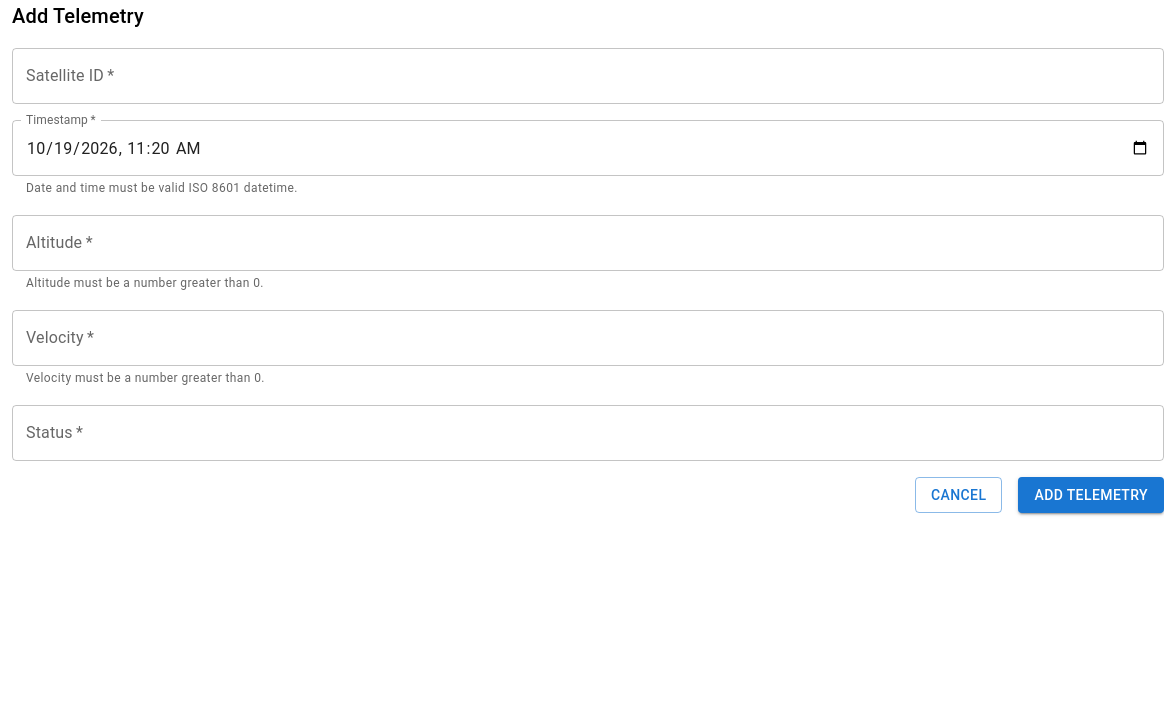
Test: TelemetryForm › shows a validation error when velocity is negative
The width and height of the screenshot is (1176, 720).
Type "SAT-001" into the field with id "telemetry-satellite-id" at (588,76), box [12, 48, 1164, 104]
Replace the text in the field with id "telemetry-timestamp" with "2026-10-17T12:00" at (588,148), box [12, 120, 1164, 176]
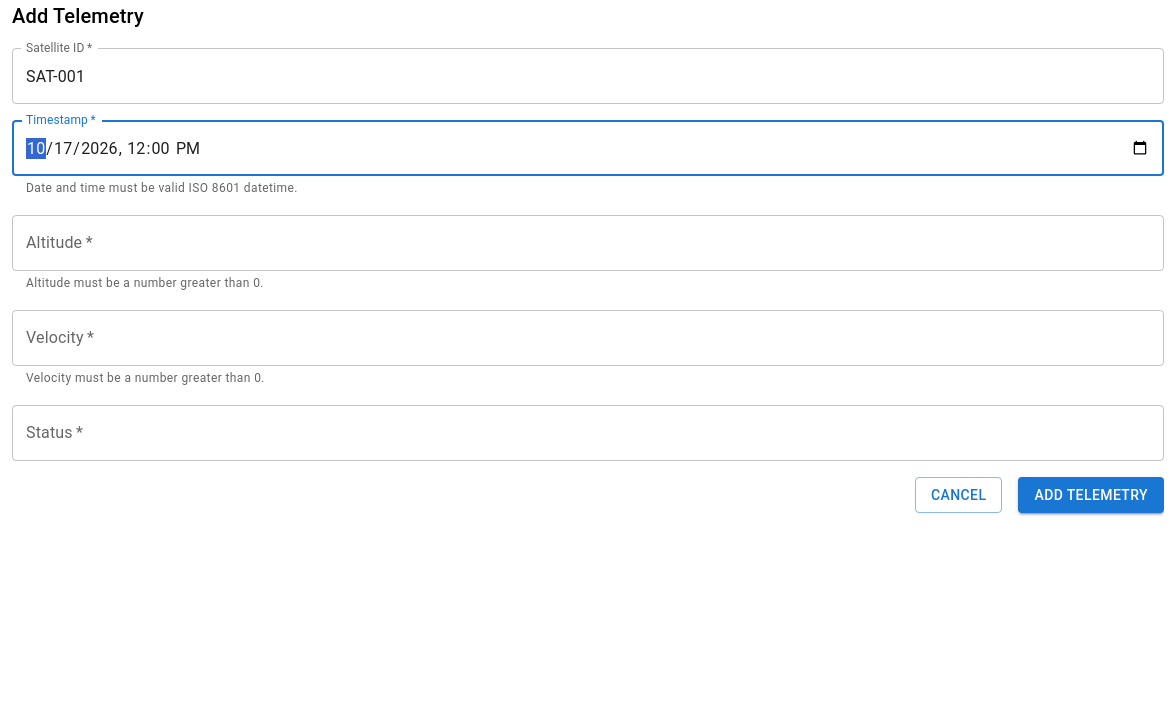
Type "400" into the number field with id "telemetry-altitude" at (588,243), box [12, 215, 1164, 271]
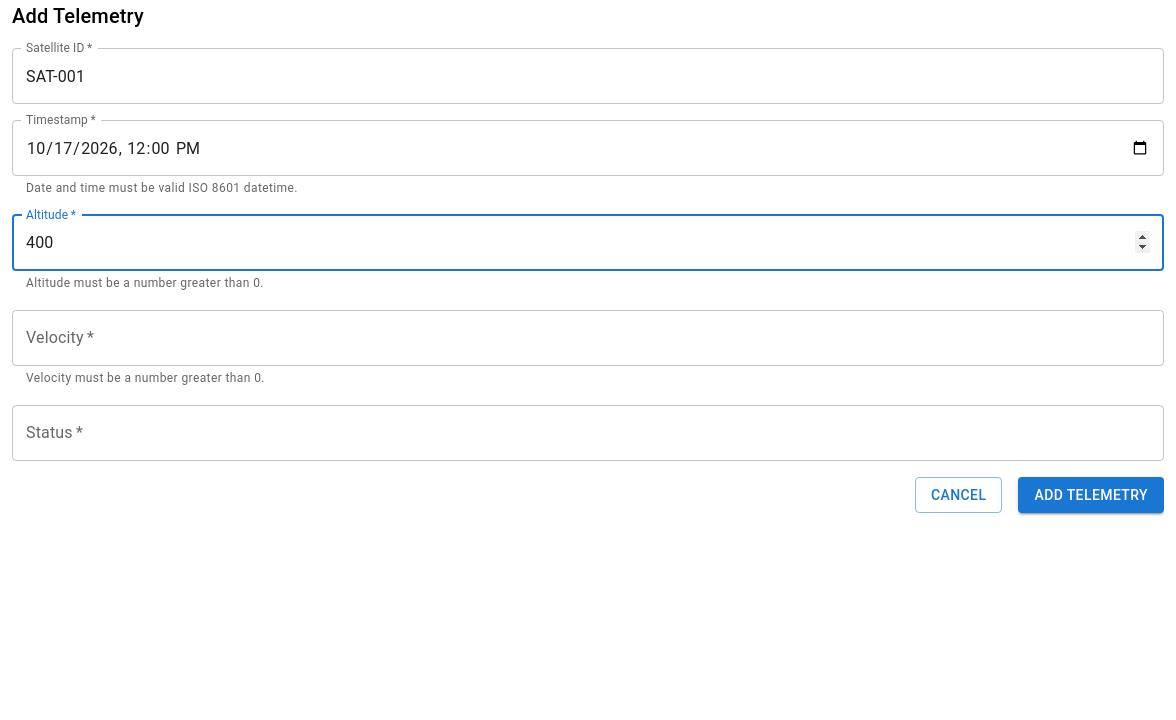
Type "7.8" into the number field with id "telemetry-velocity" at (588,338), box [12, 310, 1164, 366]
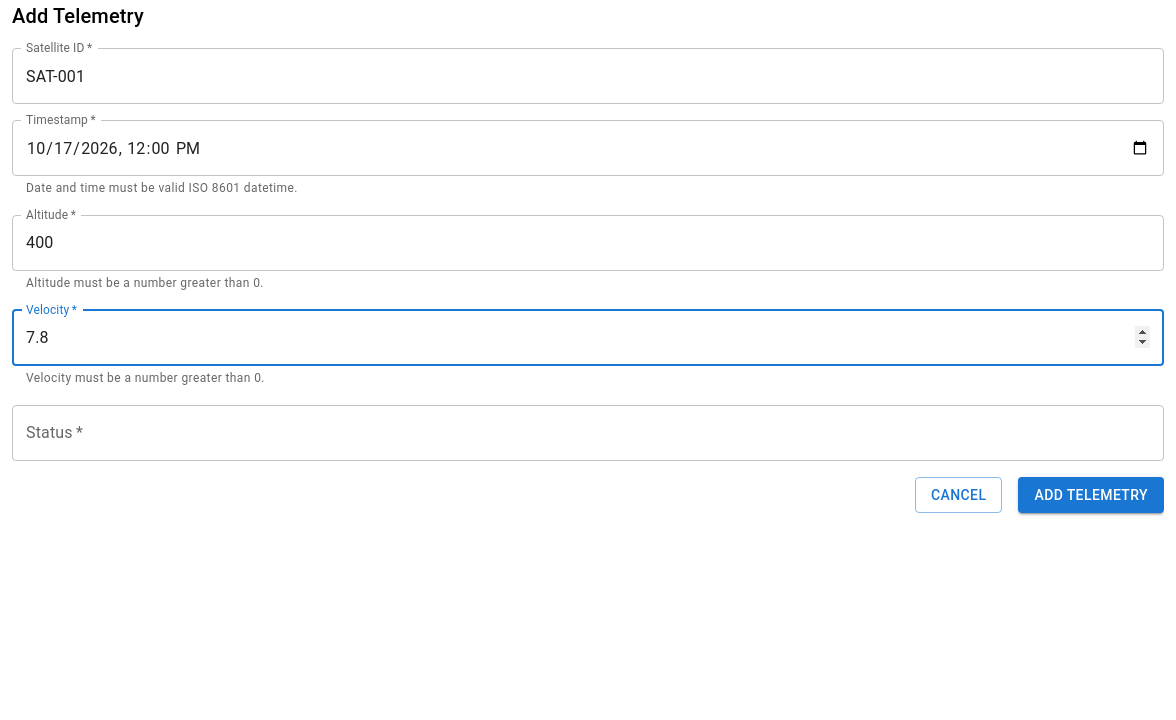
Type "nominal" into the field with id "telemetry-status" at (588,433), box [12, 405, 1164, 461]
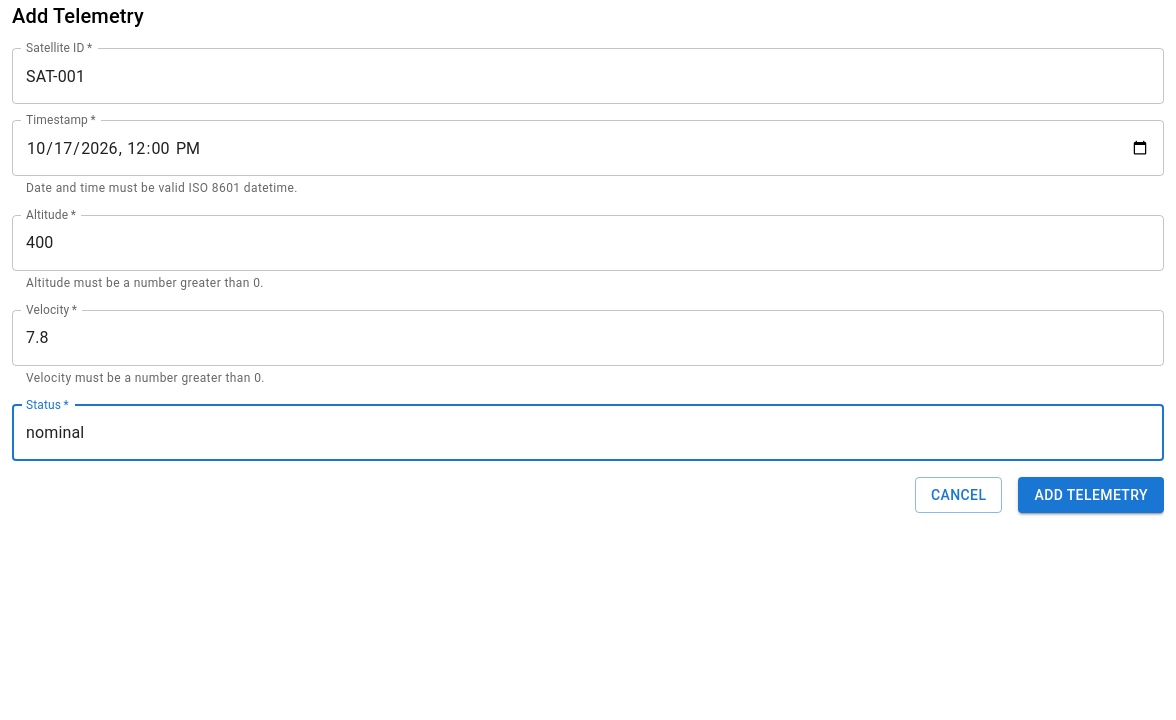
Replace the text in the number field with id "telemetry-velocity" with "-1" at (588,338), box [12, 310, 1164, 366]
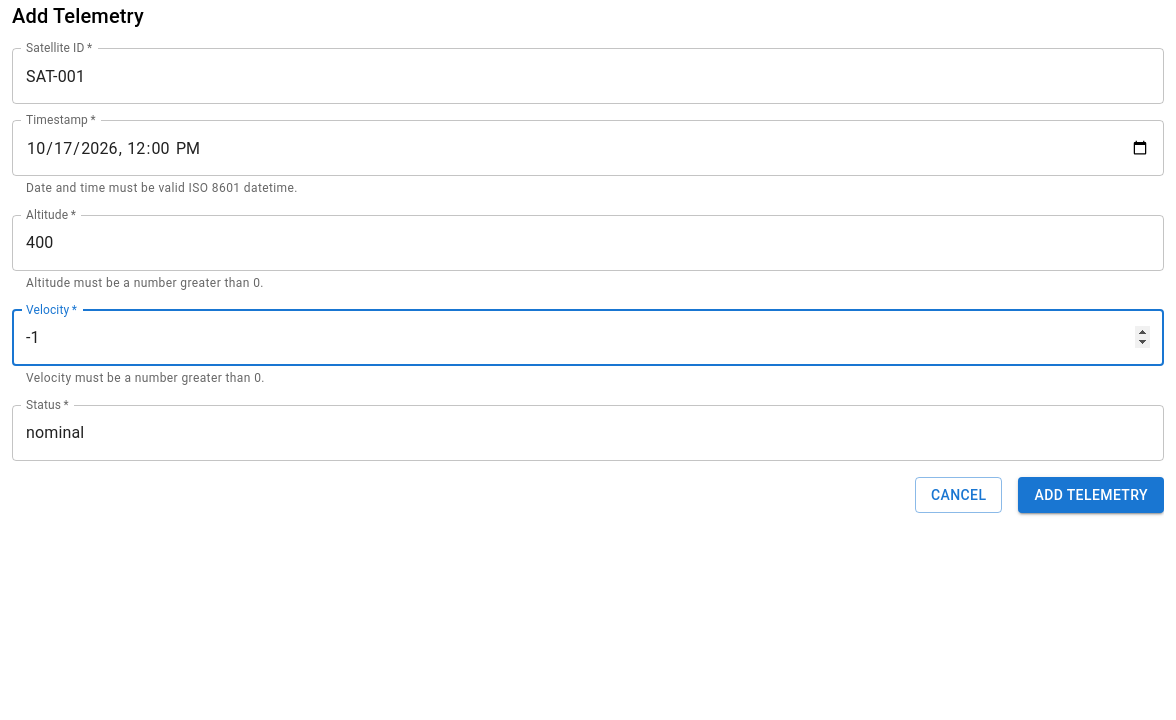
Click the button "Add Telemetry" at (1091,495), box [1018, 477, 1164, 513]
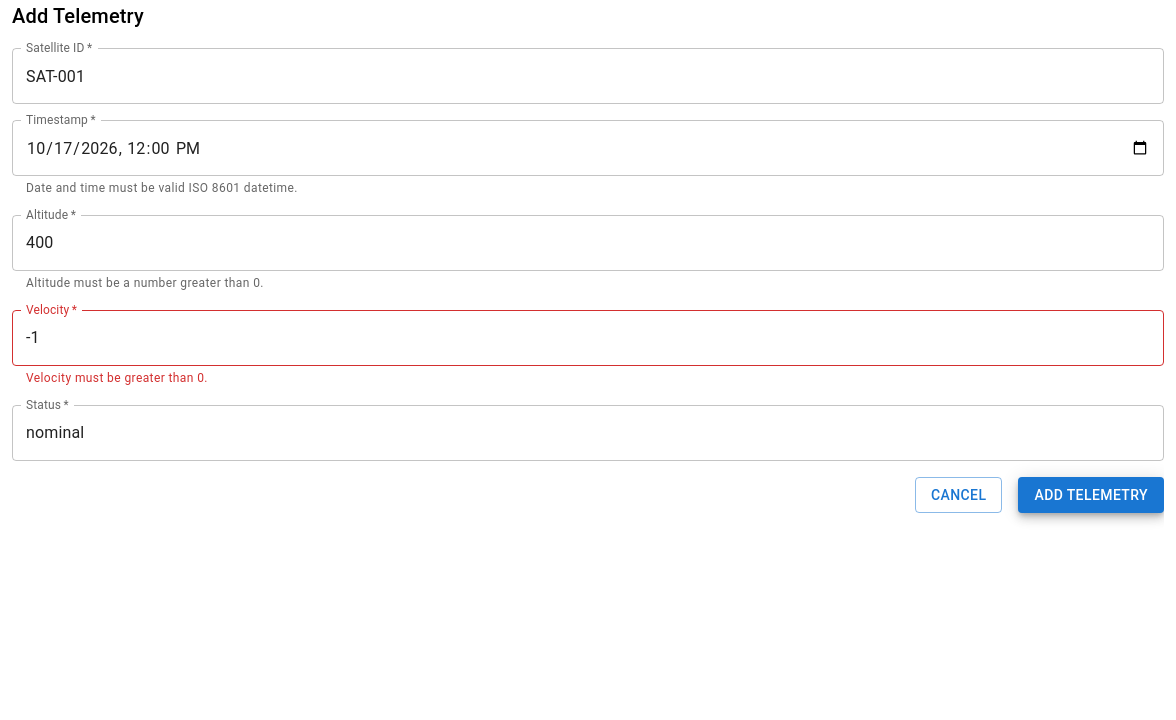
Expected: the text "Velocity must be greater than 0." is shown, [26, 371, 208, 385]
